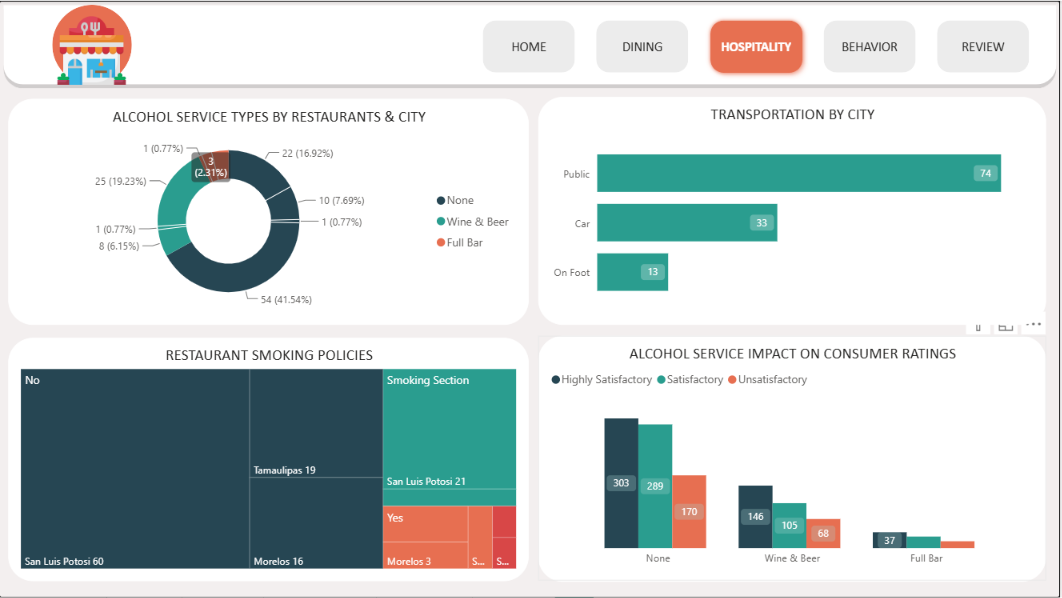

The page's visual inventory and layout, read from the dashboard file:
{"tool":"powerbi","page":{"name":"HOSPITALITY","canvas":[1280,720],"ordinal":2},"visuals":[{"type":"donutChart","title":"ALCOHOL SERVICE TYPES BY RESTAURANTS & CITY ","fields":{"Category":["restaurants.Alcohol_Service"],"Series":["restaurants.City"],"Y":["Count(restaurants.Restaurant_ID)"]},"box":[11.3,118.6,628.2,272.5],"z":0},{"type":"treemap","title":"RESTAURANT SMOKING POLICIES","fields":{"Details":["restaurants.State"],"Group":["restaurants.Smoking_Allowed"],"Values":["CountNonNull(restaurants.Restaurant_ID)"]},"box":[11.3,406.6,628.2,293.6],"z":1000},{"type":"clusteredColumnChart","title":"ALCOHOL SERVICE IMPACT ON CONSUMER RATINGS","fields":{"Category":["restaurants.Alcohol_Service"],"Series":["ratings.Overall_Rating_Category"],"Y":["CountNonNull(ratings.Consumer_ID)"]},"box":[650.8,403.8,612.7,296.5],"z":2000},{"type":"barChart","title":"TRANSPORTATION BY CITY","fields":{"Category":["consumers.Transportation_Method"],"Y":["CountNonNull(consumers.Consumer_ID)"]},"box":[650.8,115.8,612.7,275.3],"z":3000},{"type":"shape","box":[0,0,1280.5,105.9],"z":4000},{"type":"pageNavigator","box":[576,15.5,677.6,79.1],"z":5000},{"type":"shape","box":[63.7,4.4,96.2,96.7],"z":6000},{"type":"image","box":[56,9.3,111.5,101.1],"z":7000}]}

Visuals, with their boxes in screenshot pixels (x1, y1, x2, y2), scaled from the page's 1280x720 canvas onto the 1062x598 screenshot:
"ALCOHOL SERVICE TYPES BY RESTAURANTS & CITY " donutChart: rect(9, 99, 531, 325)
"RESTAURANT SMOKING POLICIES" treemap: rect(9, 338, 531, 582)
"ALCOHOL SERVICE IMPACT ON CONSUMER RATINGS" clusteredColumnChart: rect(540, 335, 1048, 582)
"TRANSPORTATION BY CITY" barChart: rect(540, 96, 1048, 325)
shape: rect(0, 0, 1061, 88)
pageNavigator: rect(478, 13, 1040, 79)
shape: rect(53, 4, 133, 84)
image: rect(46, 8, 139, 92)
